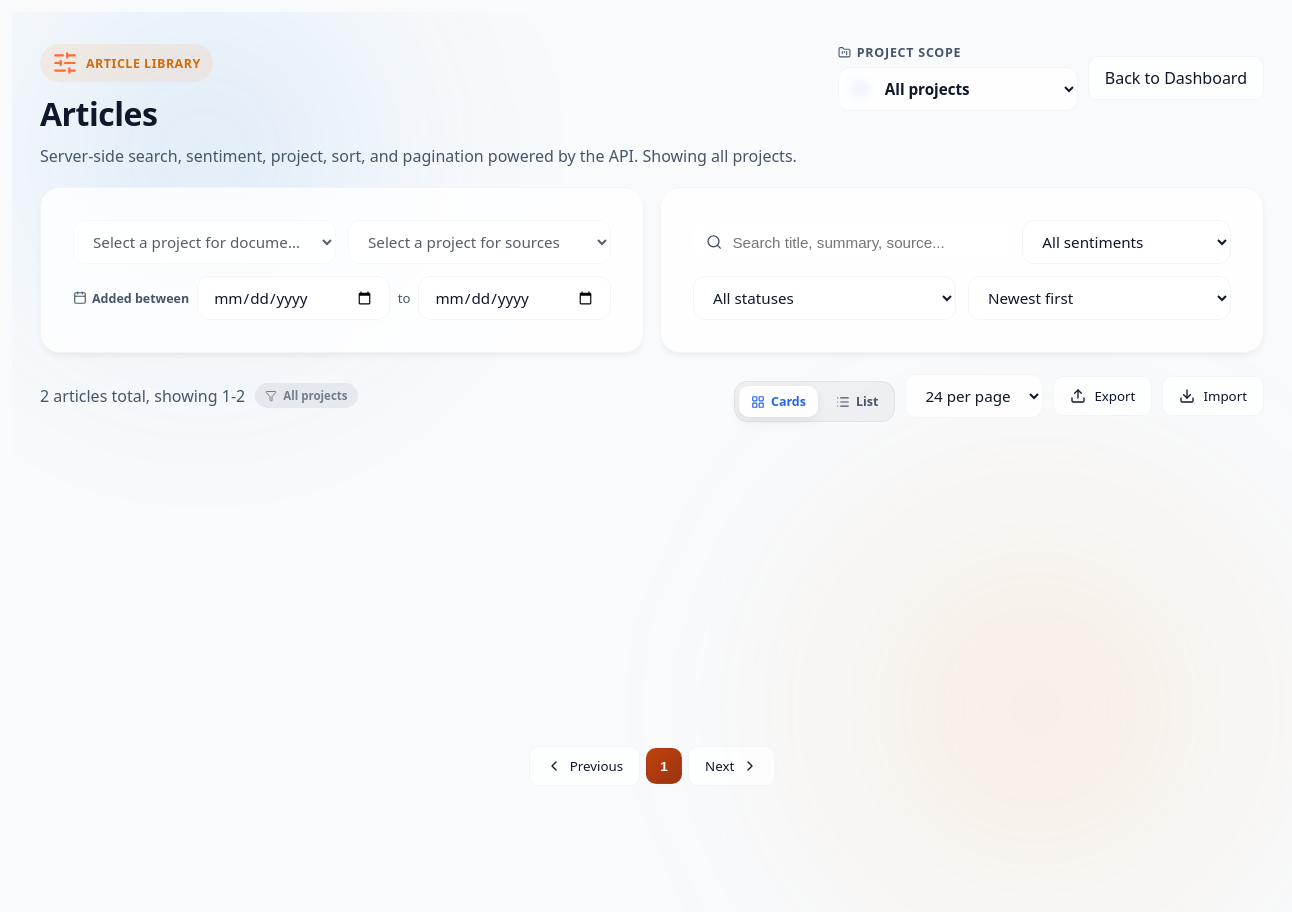
Test: ArticlesPage › filters by typing in the search box (debounced)
The image size is (1292, 912).
Type "battery" into the field with placeholder "Search title, summary, source...".
click(865, 242); type("battery")  # box top-left (732, 234), bottom-right (997, 251)
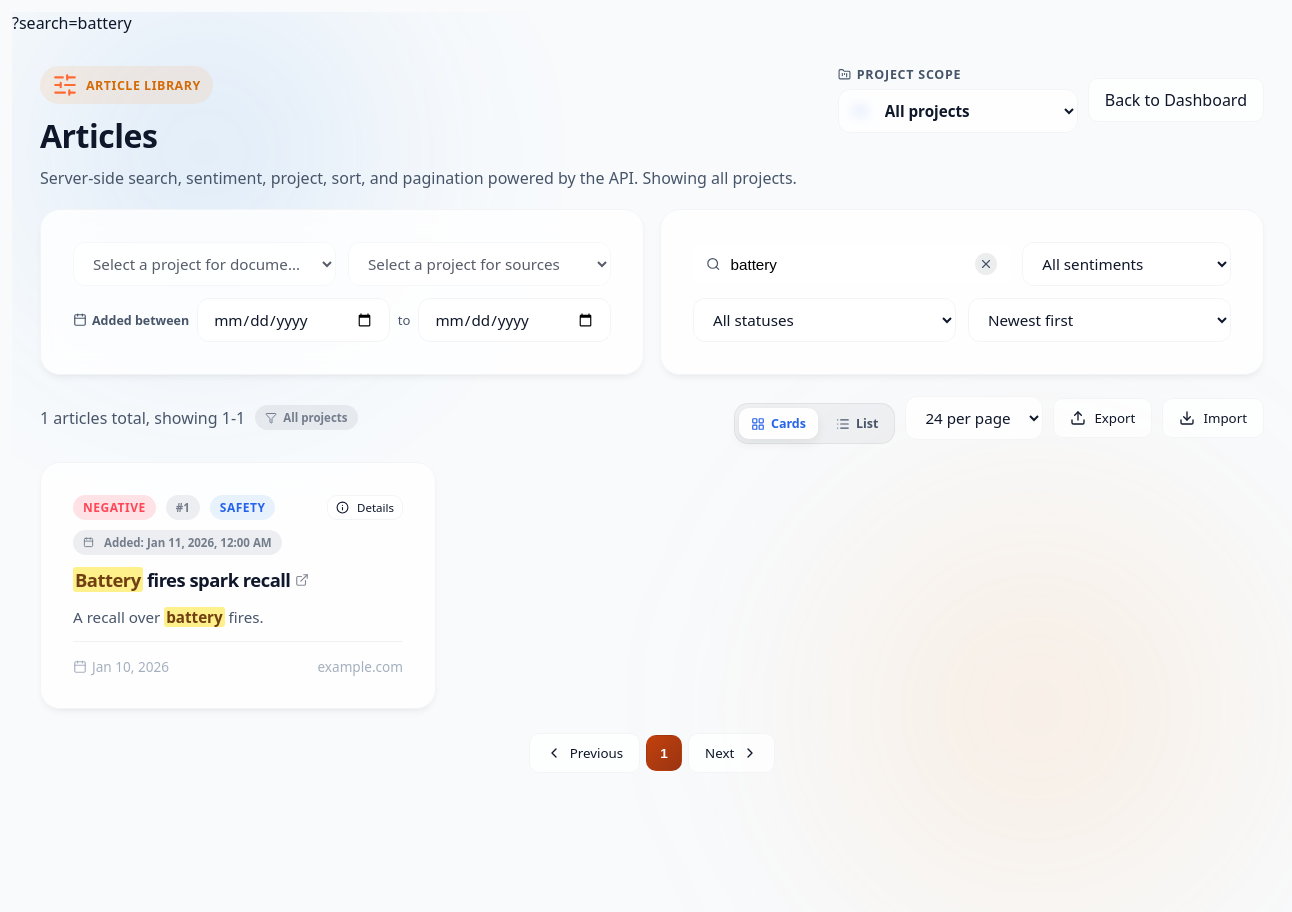
Check: the text "1 articles total, showing 1-1" is shown, box top-left (40, 407), bottom-right (245, 429)
